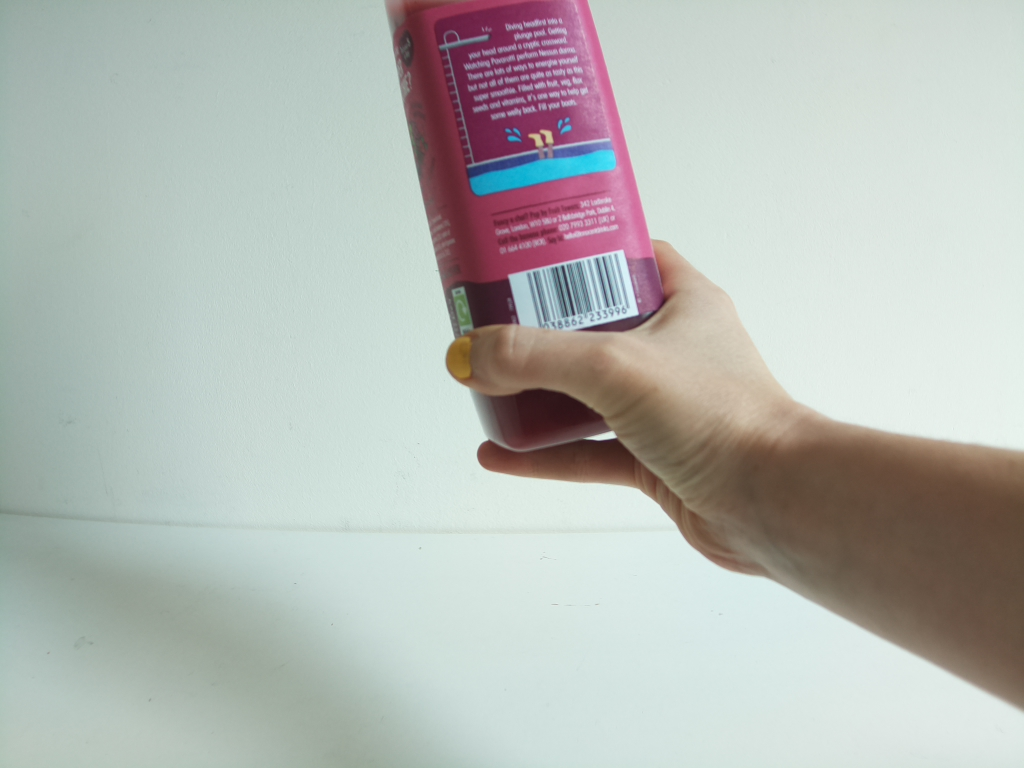juice: (384, 1, 668, 468)
